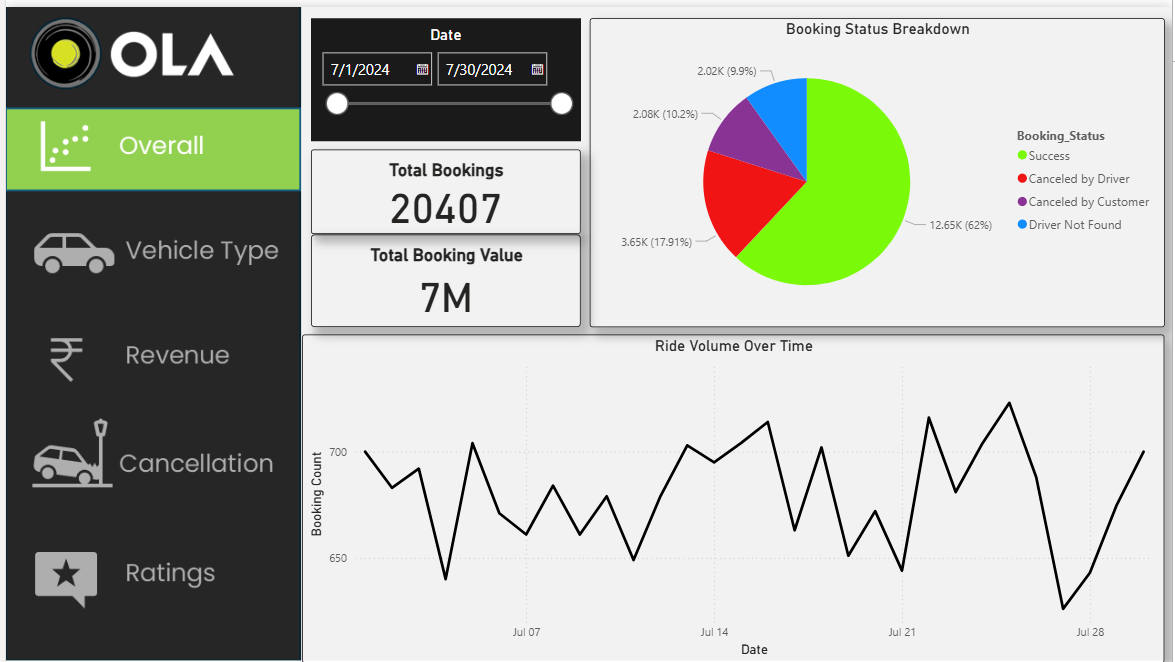

The dashboard page shown, as its layout file describes it:
{"tool":"powerbi","page":{"name":"Overall","canvas":[1280,720],"ordinal":0},"visuals":[{"type":"actionButton","box":[0,203.6,322.6,92.9],"z":0},{"type":"actionButton","box":[1.2,329.8,322.6,92.9],"z":1000},{"type":"actionButton","box":[2.4,441.7,322.6,92.9],"z":2000},{"type":"actionButton","box":[0,572.6,322.6,92.9],"z":3000},{"type":"lineChart","title":"Ride Volume Over Time","fields":{"Y":["CountNonNull(Bookings.Booking_ID)"],"Category":["Bookings.Date"]},"box":[325,359.5,946.4,360.7],"z":4000},{"type":"pieChart","title":"Booking Status Breakdown","fields":{"Category":["Bookings.Booking_Status"],"Y":["CountNonNull(Bookings.Booking_Status)"]},"box":[640.5,11.9,631,339.3],"z":5000},{"type":"slicer","title":"Date","fields":{"Values":["Bookings.Date"]},"box":[334.5,11.8,296,134.7],"z":6000},{"type":"card","title":"Total Bookings","fields":{"Values":["CountNonNull(Bookings.Booking_ID)"]},"box":[334.7,156.9,295.8,93.1],"z":7000},{"type":"card","title":"Total Booking Value","fields":{"Values":["Sum(Bookings.Booking_Value)"]},"box":[334.8,249.7,296.4,101.5],"z":8000}]}

Visuals, with their boxes in screenshot pixels (x1, y1, x2, y2), scaled from the page's 1280x720 canvas onto the 1175x662 screenshot:
actionButton: [left=0, top=187, right=296, bottom=273]
actionButton: [left=1, top=303, right=297, bottom=389]
actionButton: [left=2, top=406, right=298, bottom=492]
actionButton: [left=0, top=526, right=296, bottom=612]
"Ride Volume Over Time" lineChart: [left=298, top=331, right=1167, bottom=661]
"Booking Status Breakdown" pieChart: [left=588, top=11, right=1167, bottom=323]
"Date" slicer: [left=307, top=11, right=579, bottom=135]
"Total Bookings" card: [left=307, top=144, right=579, bottom=230]
"Total Booking Value" card: [left=307, top=230, right=579, bottom=323]
